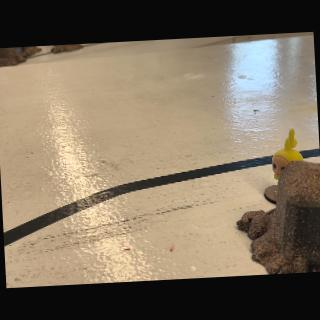teletubby: (272, 129, 304, 180)
